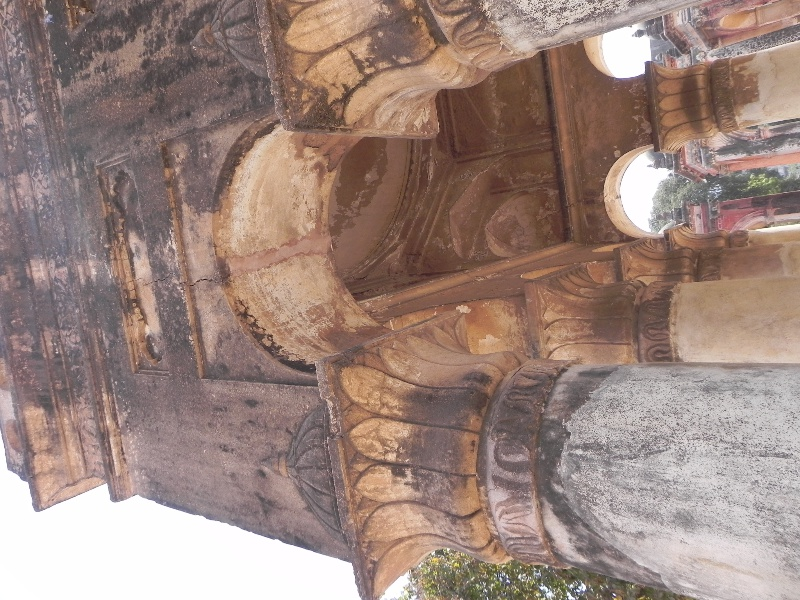Crack: (178, 275, 226, 286)
